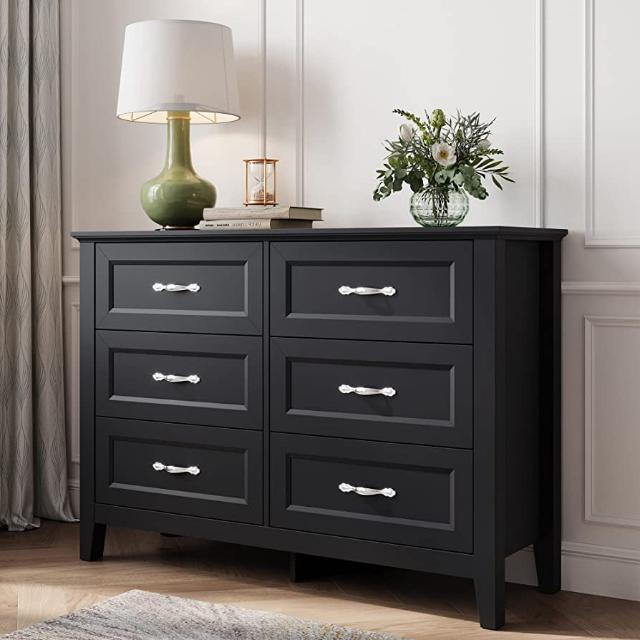dresser: (75, 220, 571, 636)
